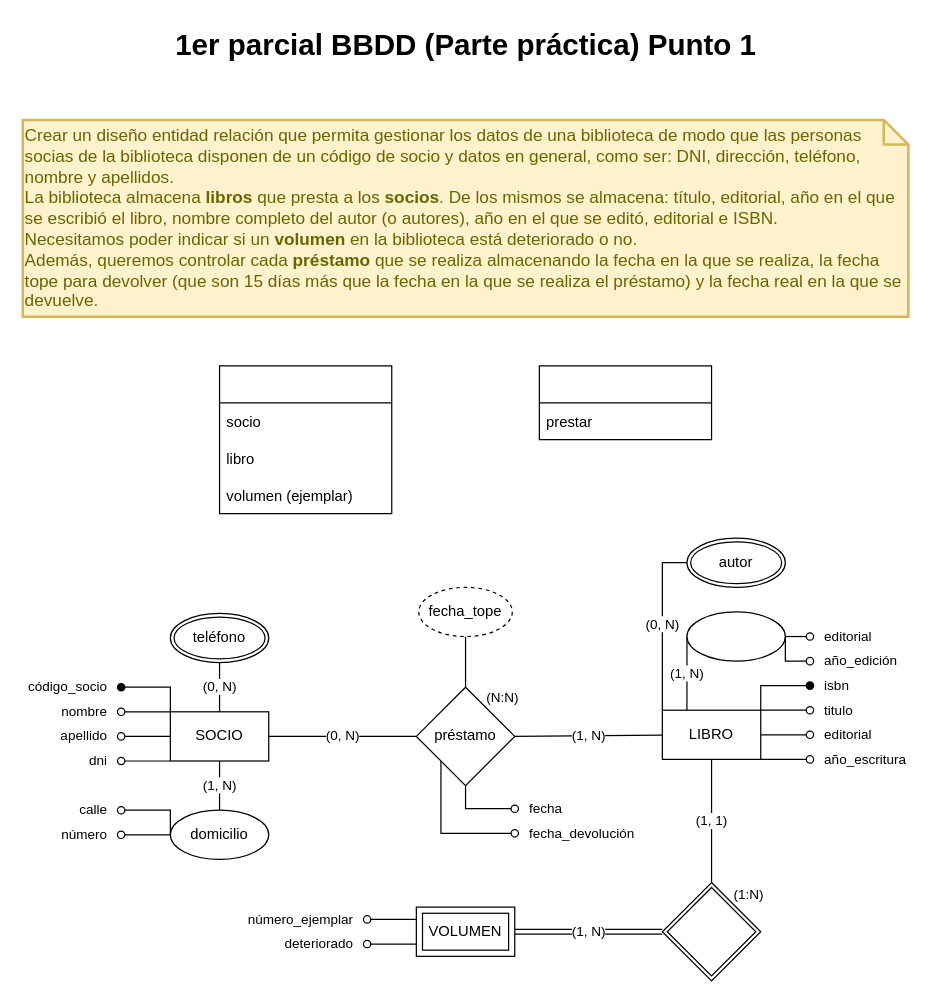
Image size: 930x1002. Some labels were removed from this diagram. Each missing label, with the box of its shape:
edición: (686, 611, 785, 661)
ejemplar: (661, 881, 761, 981)
ENTIDADES (personas/cosas): (218, 365, 392, 514)
RELACIONES (acciones/verbos): (538, 365, 712, 440)
